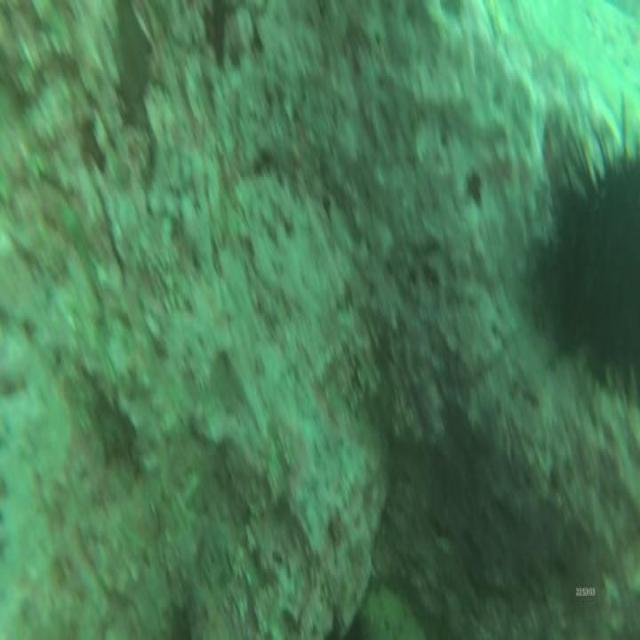echinus: (558, 137, 638, 386)
